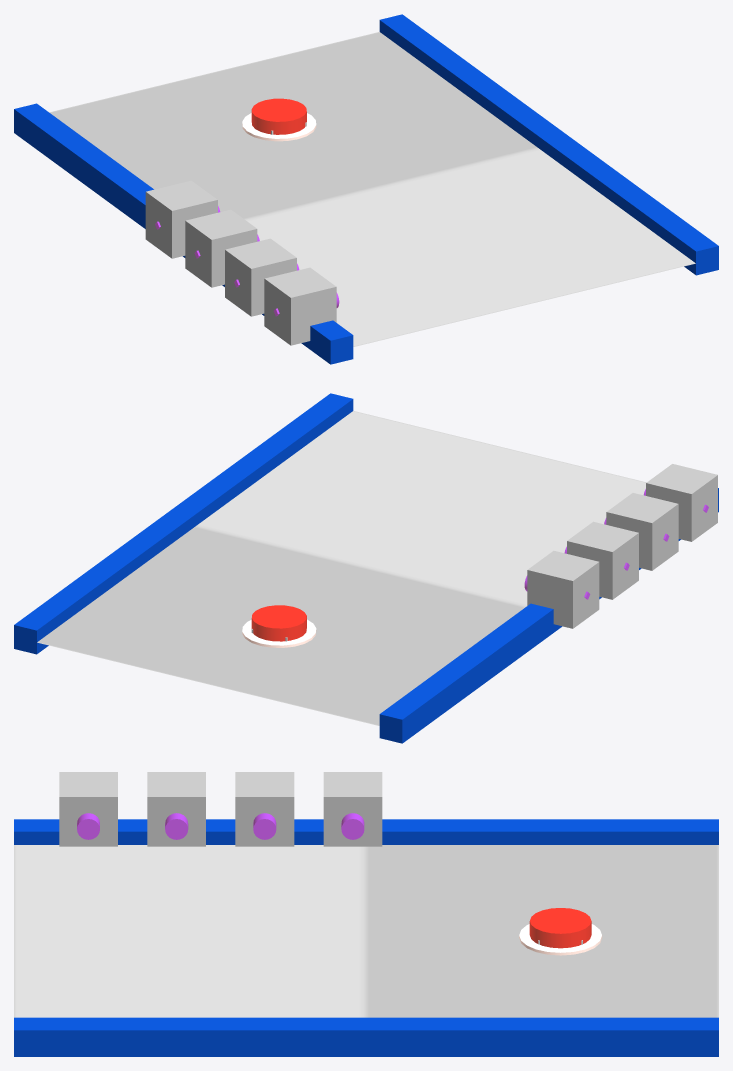
Rendered from Module_32.fbx.
3 views of the same model, one above another, from view 1: azimuth 30°, elevation 25°; view 2: azimuth 150°, elevation 25°; view 3: azimuth 270°, elevation 25° (orthographic). The views are drawn at different scales.
Visible parts, largest first — view 1: Road (1), Fence (2), Fence (1), ArowBox_Object (2), ArowBox_Object (3), ArowBox_Object, ArowBox_Object (1), Cylinder (1), Btn; view 2: Road (1), Fence (2), Fence (1), ArowBox_Object (3), ArowBox_Object (1), ArowBox_Object, ArowBox_Object (2), Cylinder (1), Btn; view 3: Road (1), Fence (2), Fence (1), ArowBox_Object, ArowBox_Object (3), ArowBox_Object (2), ArowBox_Object (1), Cylinder (1), Cylinder (×4), Btn.
Part boxes in pixels (<box>): Road (1): <box>49,32,695,346</box>; Fence (2): <box>379,14,718,275</box>; Fence (1): <box>14,103,353,364</box>; ArowBox_Object (2): <box>264,267,336,345</box>; ArowBox_Object (3): <box>145,180,217,258</box>; ArowBox_Object: <box>185,209,257,287</box>; ArowBox_Object (1): <box>225,238,296,316</box>; Cylinder (1): <box>251,98,306,134</box>; Btn: <box>242,113,316,141</box>; Road (1): <box>37,411,646,725</box>; Fence (2): <box>14,393,353,654</box>; Fence (1): <box>379,488,718,743</box>; ArowBox_Object (3): <box>527,550,599,628</box>; ArowBox_Object (1): <box>606,493,678,570</box>; ArowBox_Object: <box>567,521,638,599</box>; ArowBox_Object (2): <box>646,464,717,541</box>; Cylinder (1): <box>251,605,306,641</box>; Btn: <box>242,619,316,647</box>; Road (1): <box>14,845,718,1017</box>; Fence (2): <box>14,1017,718,1056</box>; Fence (1): <box>14,819,718,844</box>; ArowBox_Object: <box>235,772,294,846</box>; ArowBox_Object (3): <box>323,772,382,846</box>; ArowBox_Object (2): <box>59,772,117,846</box>; ArowBox_Object (1): <box>147,772,205,846</box>; Cylinder (1): <box>529,908,591,948</box>; Cylinder (×4): <box>77,813,364,839</box>; Btn: <box>519,924,602,955</box>.
Size of the model in its own units: 17.93 by 2.37 by 24.
Materials: 7 (1 with a texture image).
